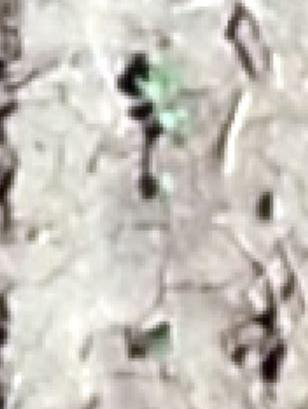cotton: (143, 70, 179, 96), (156, 105, 184, 131), (150, 326, 166, 350)
